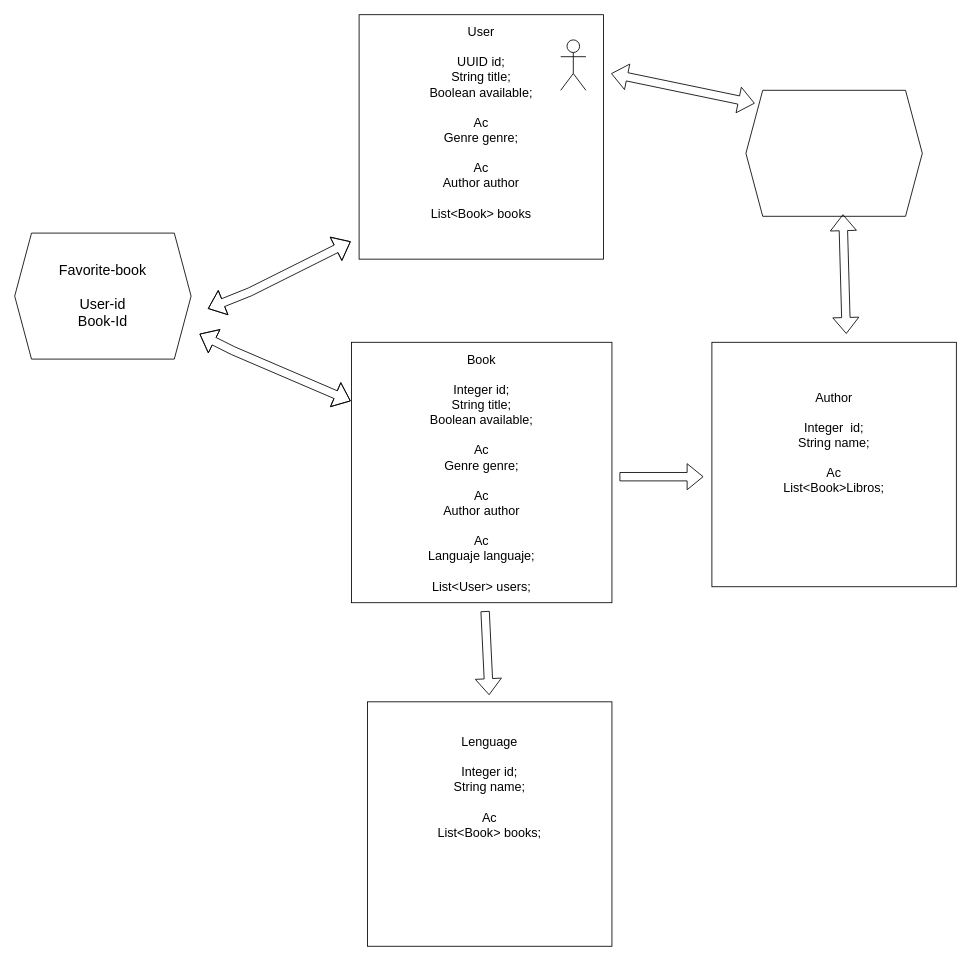
The diagram is 971 pixels wide and 961 high, and some of its shapes have lost their labels. Each missing label, with the centre of its shape:
"Actor" belongs at point (573, 64).
"Favorite-author User-id Author-Id" belongs at point (833, 152).
